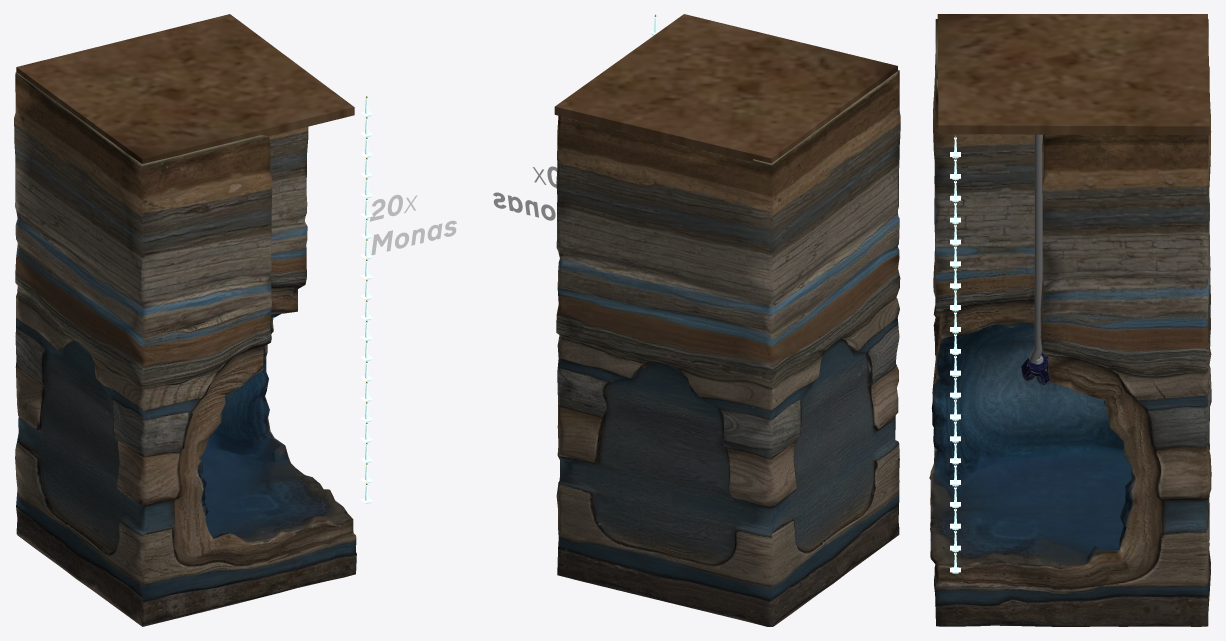
Rendered from ground-monas.glb.
3 renders of one model, left to right at view 1: azimuth 30°, elevation 25°; view 2: azimuth 150°, elevation 25°; view 3: azimuth 270°, elevation 25°, orthographic. The views are drawn at different scales.
Visible parts, largest first — view 1: tripo_node_f8aa8df9-c94f-40d4-b144-40e1b1889c25, Plane, Cube_Abu _0, Plane.001; view 2: tripo_node_f8aa8df9-c94f-40d4-b144-40e1b1889c25, Plane, Plane.001; view 3: tripo_node_f8aa8df9-c94f-40d4-b144-40e1b1889c25, Plane, Cube_Abu _0, Cylinder, HardRockBits.
Boxes of the visible parts, x1,y1,x2,y2 form: tripo_node_f8aa8df9-c94f-40d4-b144-40e1b1889c25: [14, 72, 356, 626]; Plane: [16, 14, 354, 163]; Cube_Abu _0: [360, 96, 373, 504]; Plane.001: [370, 194, 456, 255]; tripo_node_f8aa8df9-c94f-40d4-b144-40e1b1889c25: [556, 70, 900, 626]; Plane: [554, 14, 897, 163]; Plane.001: [493, 166, 557, 220]; tripo_node_f8aa8df9-c94f-40d4-b144-40e1b1889c25: [929, 19, 1211, 626]; Plane: [937, 14, 1209, 135]; Cube_Abu _0: [950, 135, 960, 573]; Cylinder: [1029, 134, 1042, 363]; HardRockBits: [1021, 353, 1049, 384].
Size of what is drawn, in the model's own units: 12.09 by 14.75 by 7.51.
7 materials, 4 textured.
